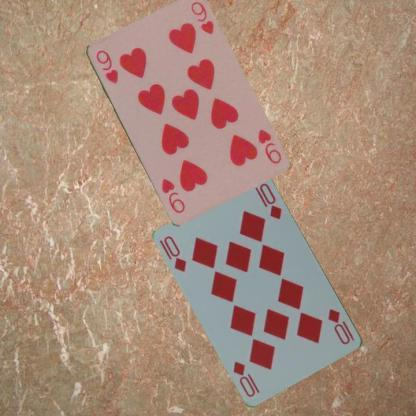10d: (325, 306, 356, 346), (158, 233, 188, 273)
9h: (254, 125, 282, 166), (92, 47, 119, 85)
